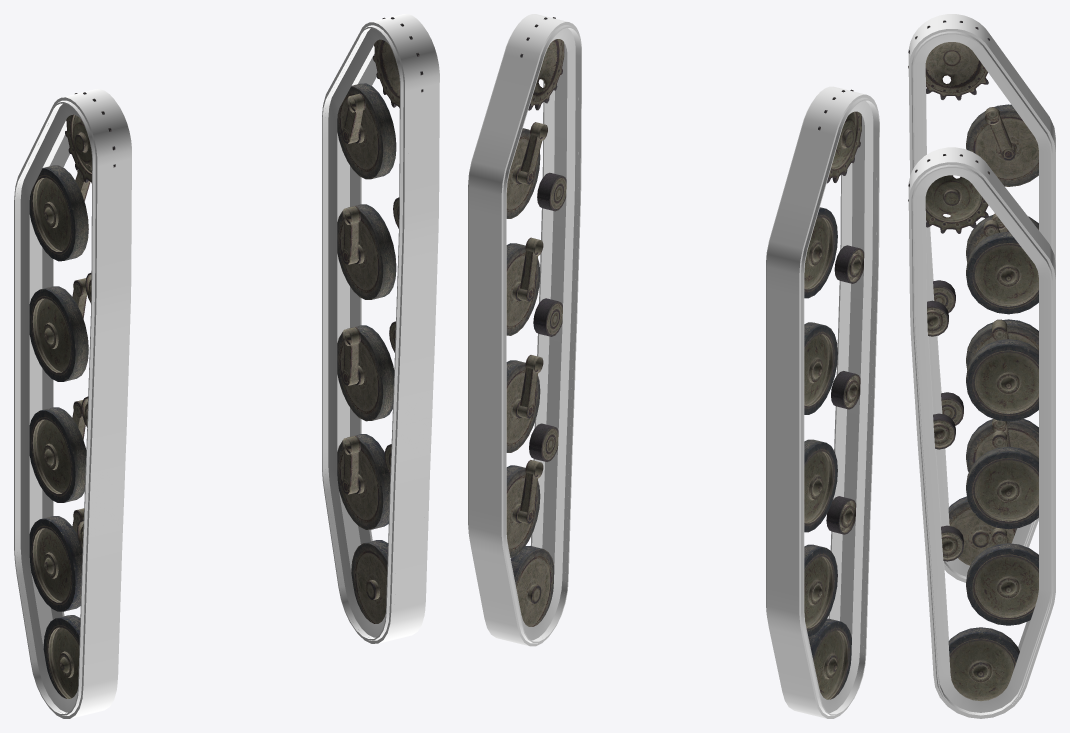
The model's file is Chassis.glb.
3 views of the same model, side by side, from view 1: azimuth 30°, elevation 25°; view 2: azimuth 150°, elevation 25°; view 3: azimuth 270°, elevation 25° (orthographic). The views are drawn at different scales.
Parts seen in each view (by area): view 1: set_1_group_0, set_0_group_0, set_2_group_0, set_3_group_0; view 2: set_1_group_0, set_0_group_0, set_3_group_0, set_2_group_0; view 3: set_3_group_0, set_0_group_0, set_2_group_0, set_1_group_0.
Boxes of the visible parts, left/top/right/bottom form: set_1_group_0: left=14, top=89, right=131, bottom=718; set_0_group_0: left=322, top=14, right=439, bottom=643; set_2_group_0: left=29, top=92, right=115, bottom=698; set_3_group_0: left=337, top=17, right=423, bottom=623; set_1_group_0: left=766, top=86, right=879, bottom=718; set_0_group_0: left=468, top=14, right=581, bottom=646; set_3_group_0: left=506, top=17, right=566, bottom=626; set_2_group_0: left=804, top=89, right=864, bottom=699; set_3_group_0: left=908, top=154, right=1038, bottom=700; set_0_group_0: left=908, top=147, right=1055, bottom=718; set_2_group_0: left=908, top=20, right=1038, bottom=565; set_1_group_0: left=908, top=14, right=1055, bottom=582.
Size of the model in its own units: 2.3 by 3.97 by 0.9556.
Materials: 4 (2 with a texture image).
